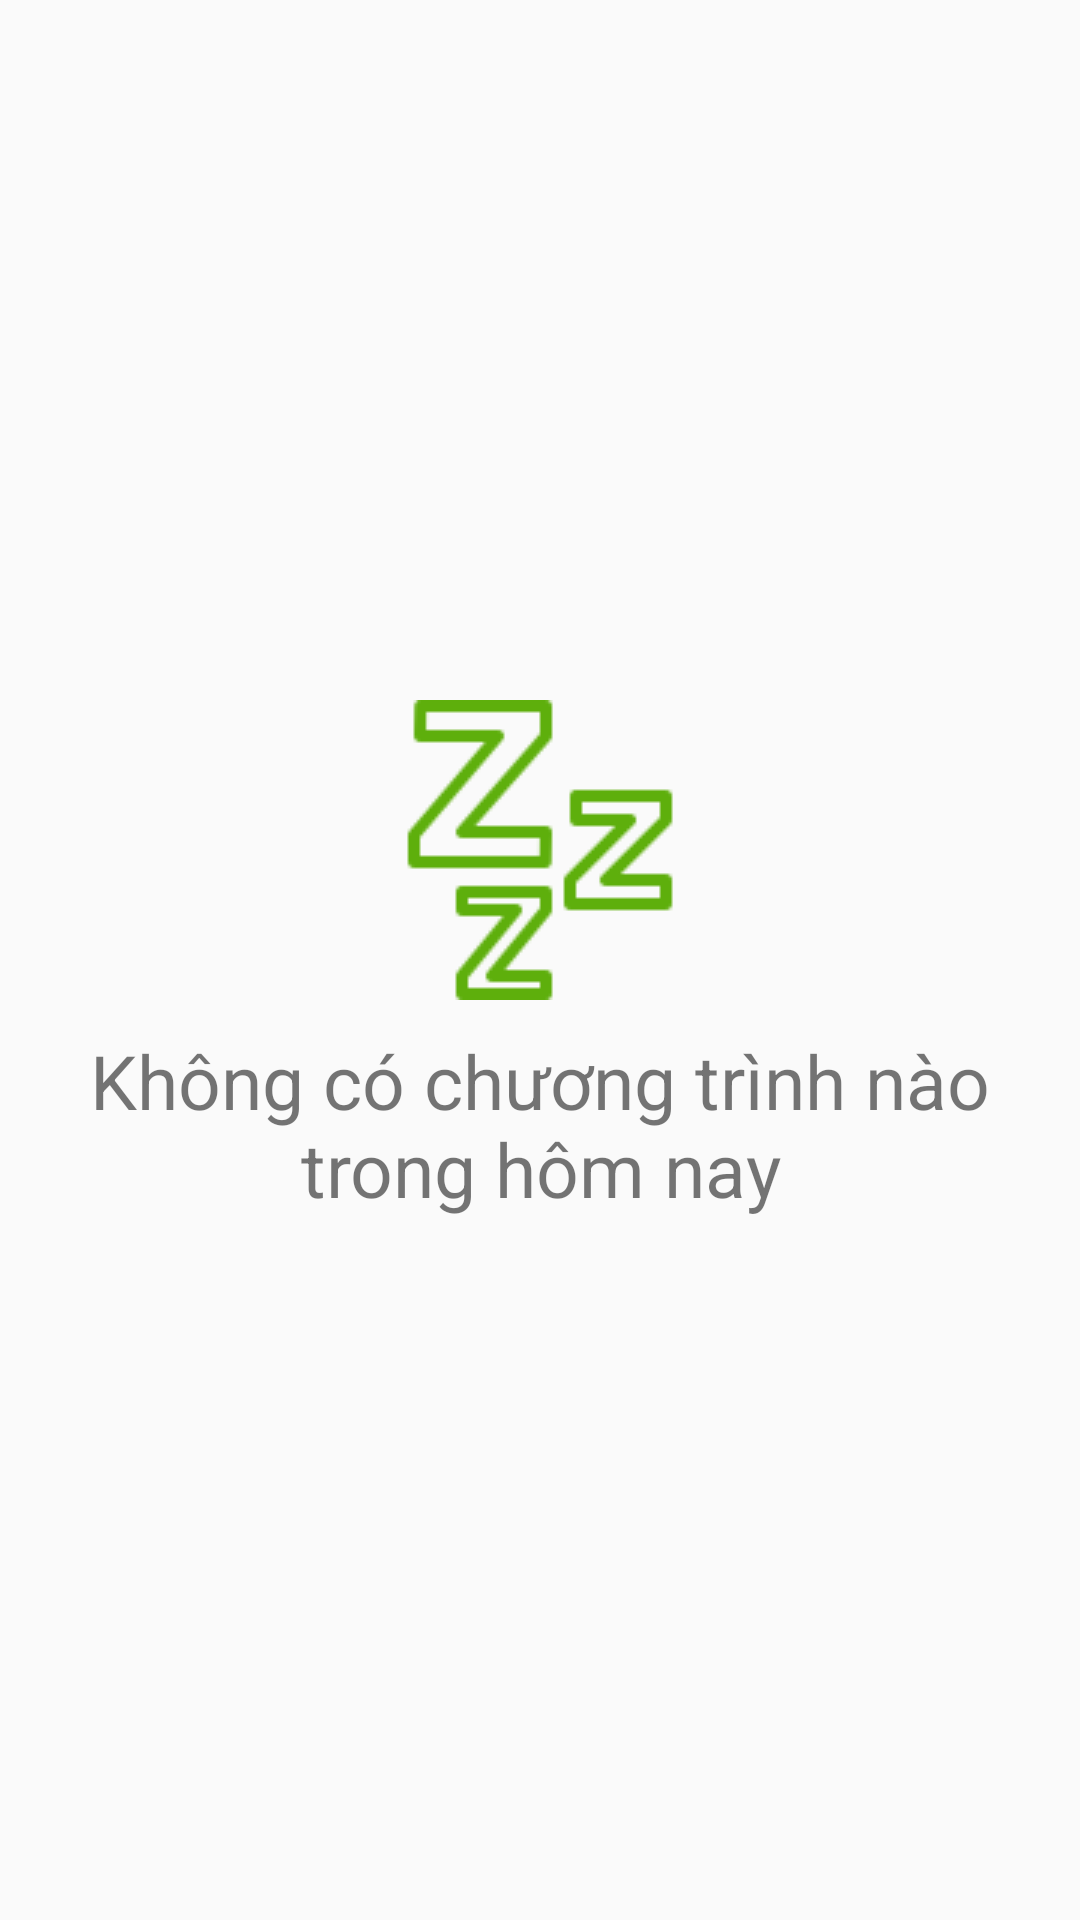

Named icons in this screenshot (1080x1920) and their centers, [x,y]:
sleep nv: [540,850]
